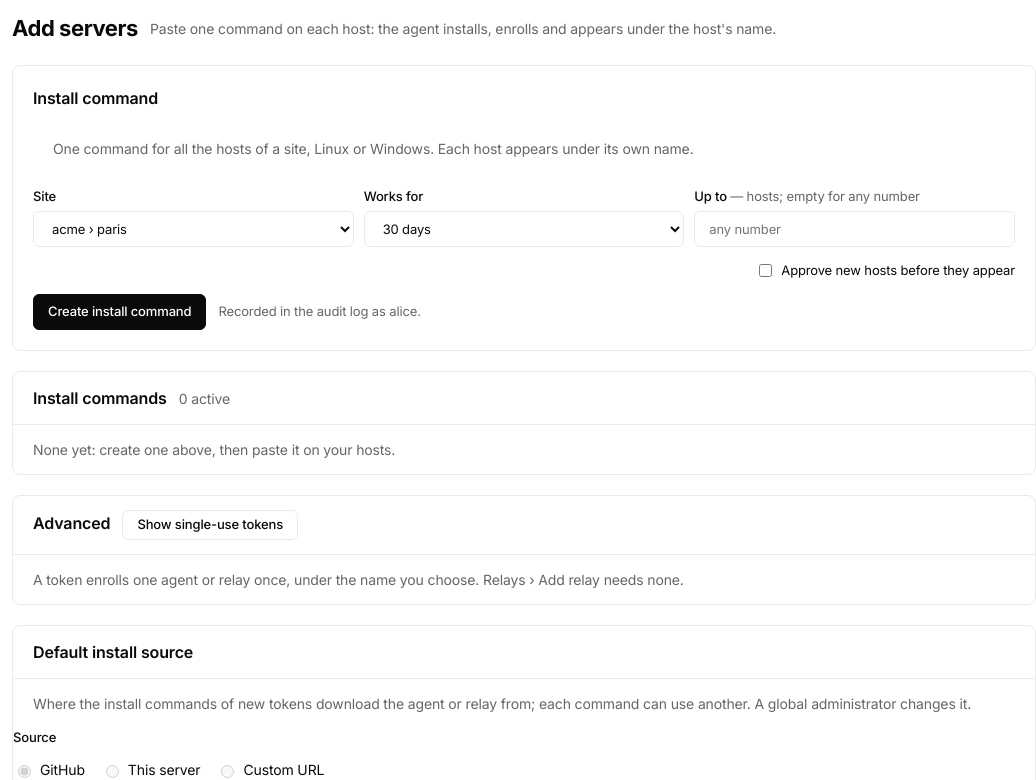
Test: TokensAdmin › sends a host limit and approval when asked
Select "7 days" in the dropdown labelled "Works for" at {"x": 524, "y": 228}, box [364,210,684,246]
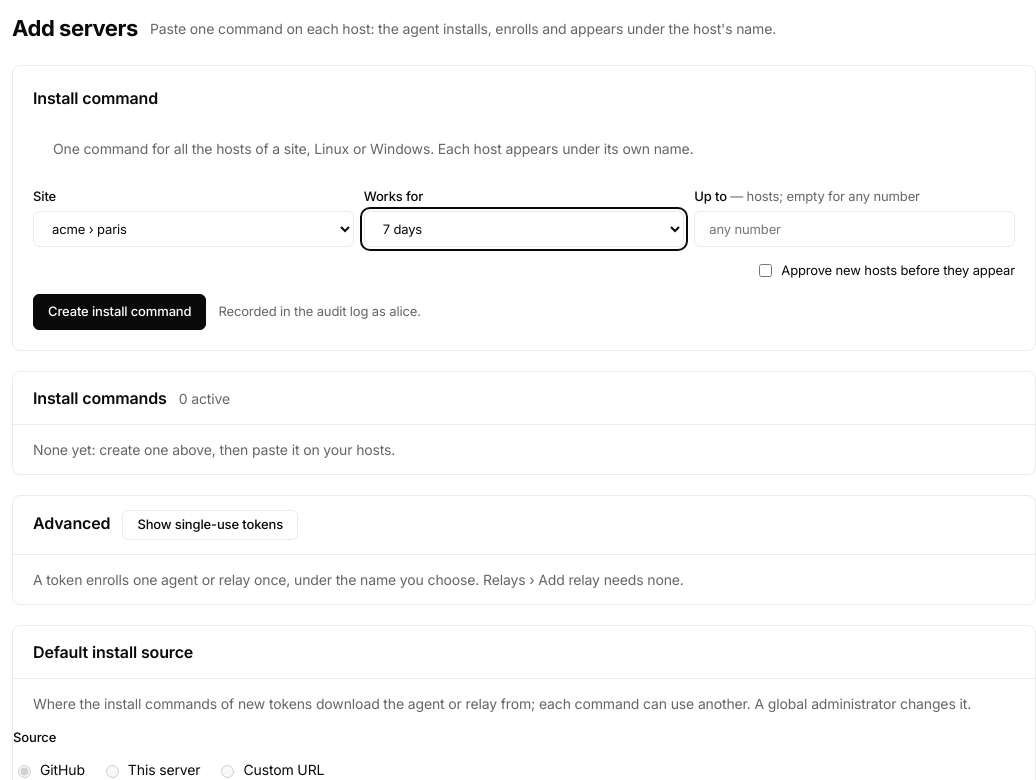
Type "10" into the number field labelled "Up to — hosts; empty for any number" at {"x": 855, "y": 228}, box [694,210,1015,246]
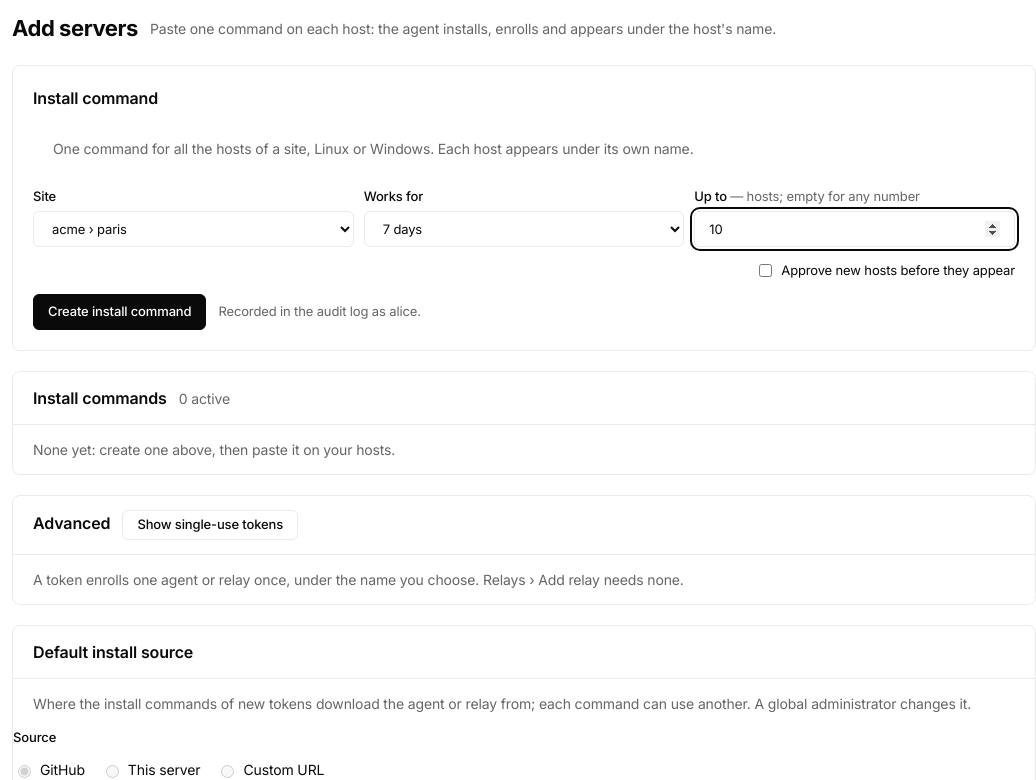
Click the checkbox labelled "Approve new hosts before they appear" at {"x": 766, "y": 270}, box [759,264,772,277]
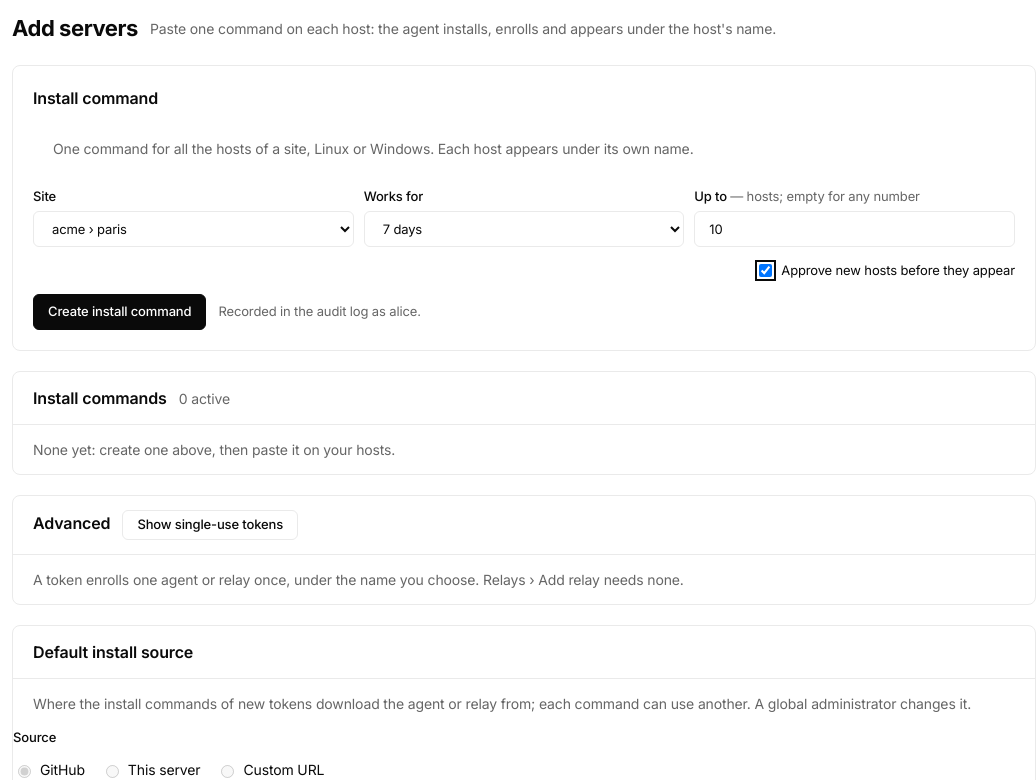
Click the button "Create install command" at {"x": 120, "y": 312}, box [33,294,206,330]
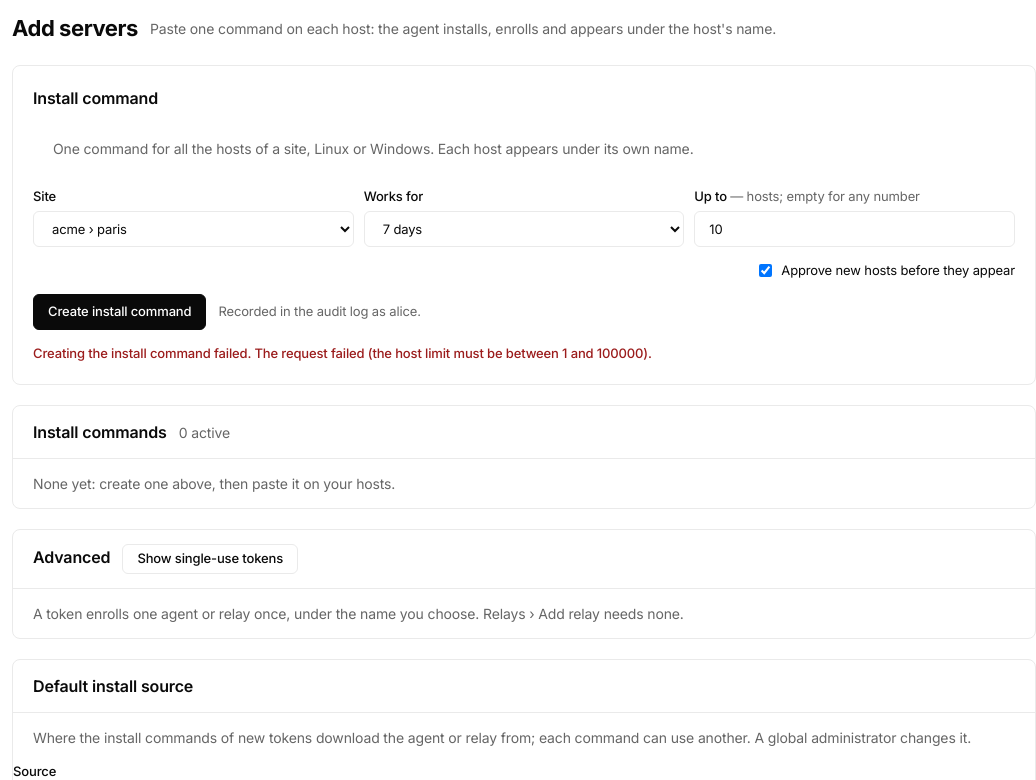
Expected: the message shows "Creating the install command failed.", [33,345,652,361]
